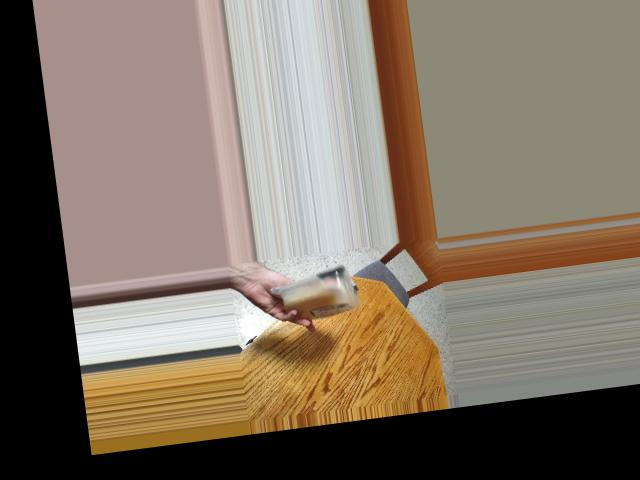cheese: (283, 270, 355, 321)
